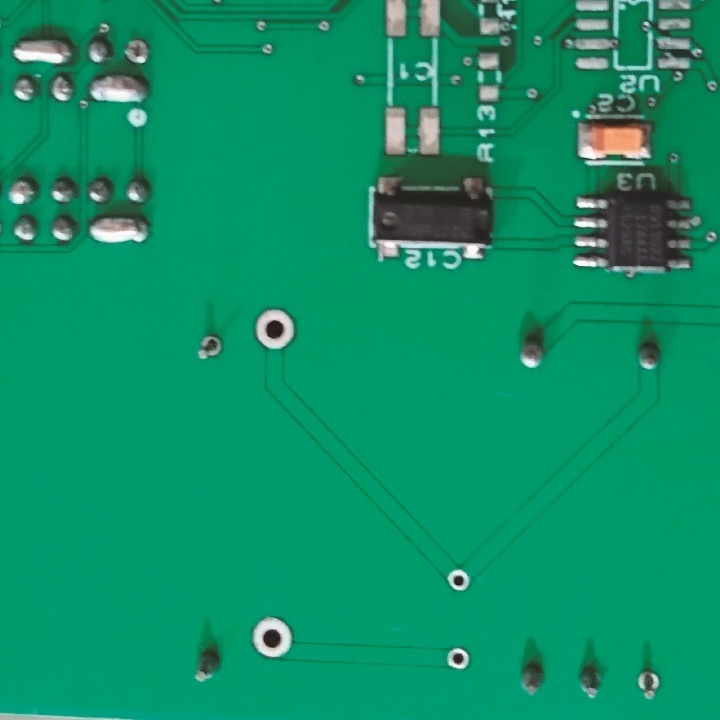F: (247, 612, 296, 661), (253, 308, 297, 352), (196, 329, 224, 365), (122, 35, 151, 69), (445, 643, 473, 675), (635, 667, 659, 703), (445, 566, 471, 596)
P: (11, 37, 74, 69), (88, 214, 151, 244), (89, 75, 149, 105)
